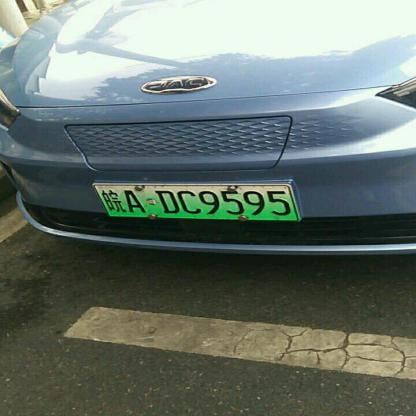lp: (92, 184, 300, 218)
